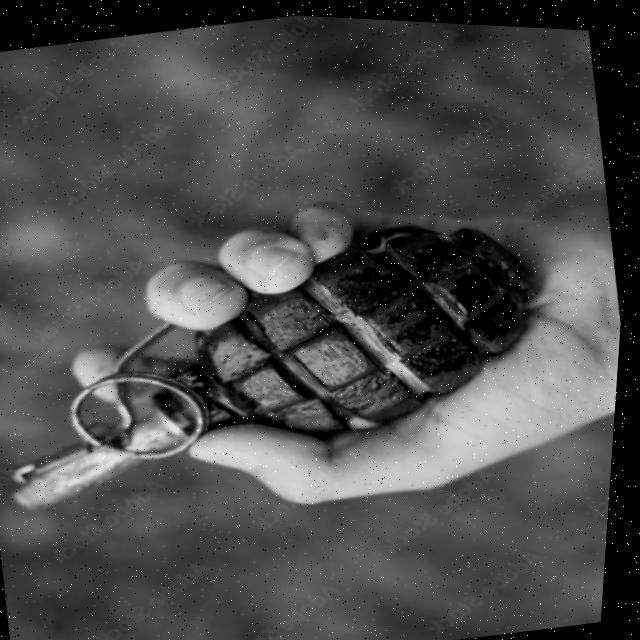grenade: (0, 148, 585, 575)
